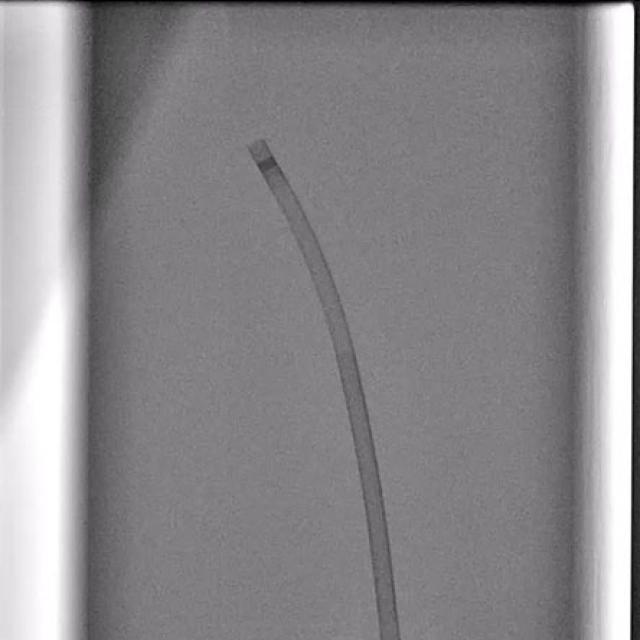bend: (330, 336, 356, 353)
entry: (379, 633, 402, 640)
marker: (257, 156, 279, 174)
tip: (246, 138, 266, 148)
